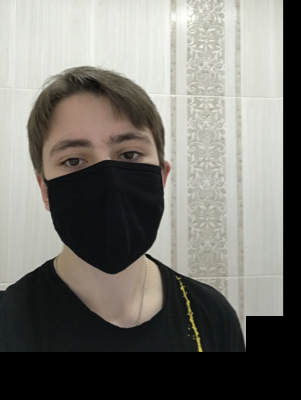with_mask: (46, 113, 165, 275)
